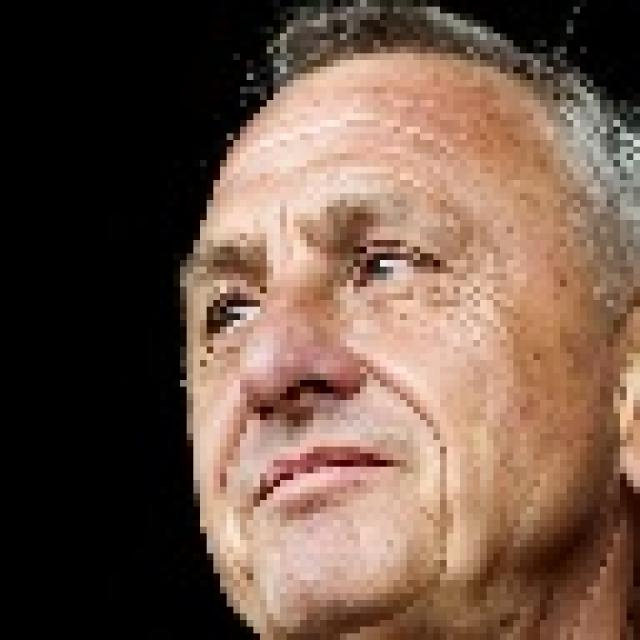sad: (168, 85, 577, 640)
